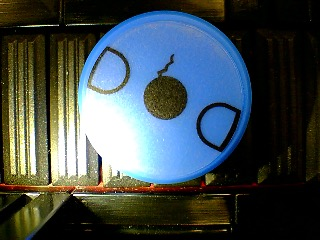CRACK: (76, 10, 253, 183)
